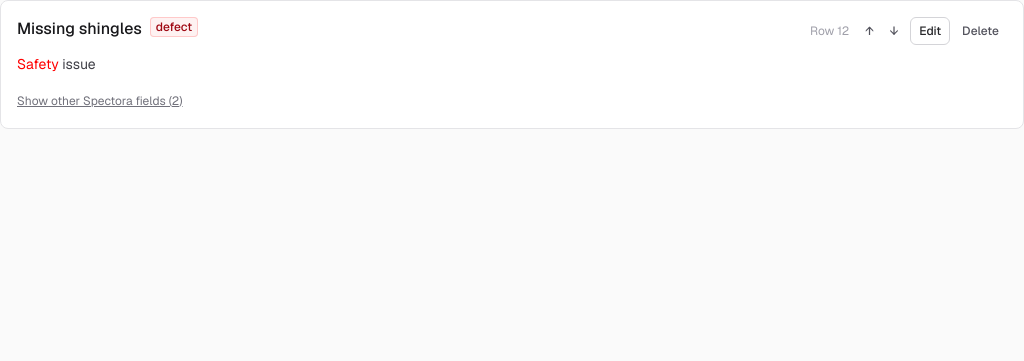
CommentCard — editing › opens formatting the visual editor can't keep in HTML mode, with an explanation
Step 1. Click the button "Edit" → (930, 31), box [910,17,950,45]
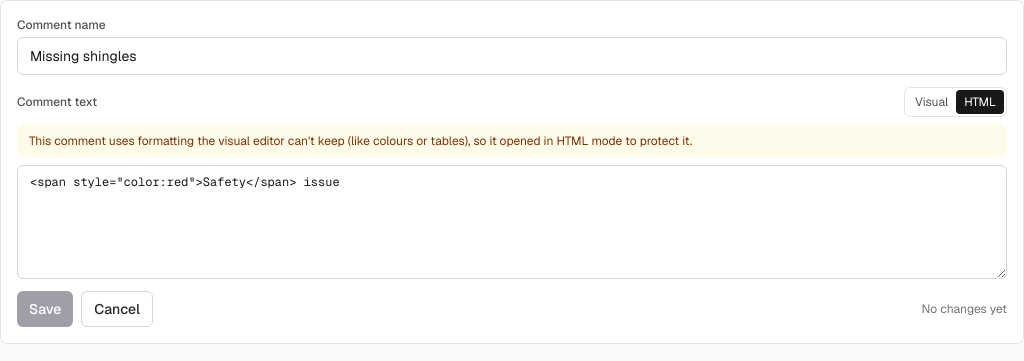
Now the text "opened in HTML mode to protect it" is shown, box [29,133,692,149]
Now the text box named "Comment HTML" holds "<span style=\"color:red\">Safety</span> issue", box [18,166,1006,278]
Now the button "Save" is disabled, box [17,291,73,327]
